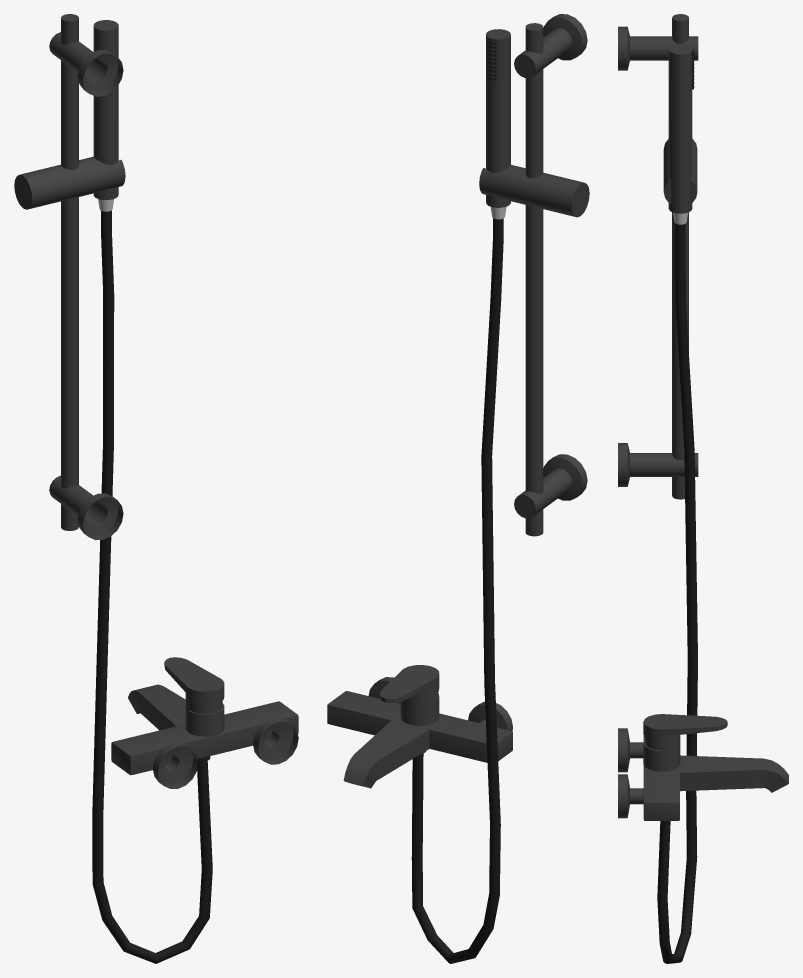
File: shower_modern_04.glb
3 views of the same model, side by side, from view 1: azimuth 30°, elevation 25°; view 2: azimuth 150°, elevation 25°; view 3: azimuth 270°, elevation 25° (orthographic). The views are drawn at different scales.
Parts seen in each view (by area): view 1: ShowerSystem04, ShowerSystem04Lever; view 2: ShowerSystem04, ShowerSystem04Lever; view 3: ShowerSystem04, ShowerSystem04Lever.
Part boxes in pixels (<box>): ShowerSystem04: <box>14,14,298,963</box>; ShowerSystem04Lever: <box>164,657,224,710</box>; ShowerSystem04: <box>327,14,589,963</box>; ShowerSystem04Lever: <box>380,665,439,703</box>; ShowerSystem04: <box>618,14,788,963</box>; ShowerSystem04Lever: <box>643,714,727,751</box>.
Size of the model in its own units: 0.5192 by 1.87 by 0.3196.
1 material, 1 textured.
